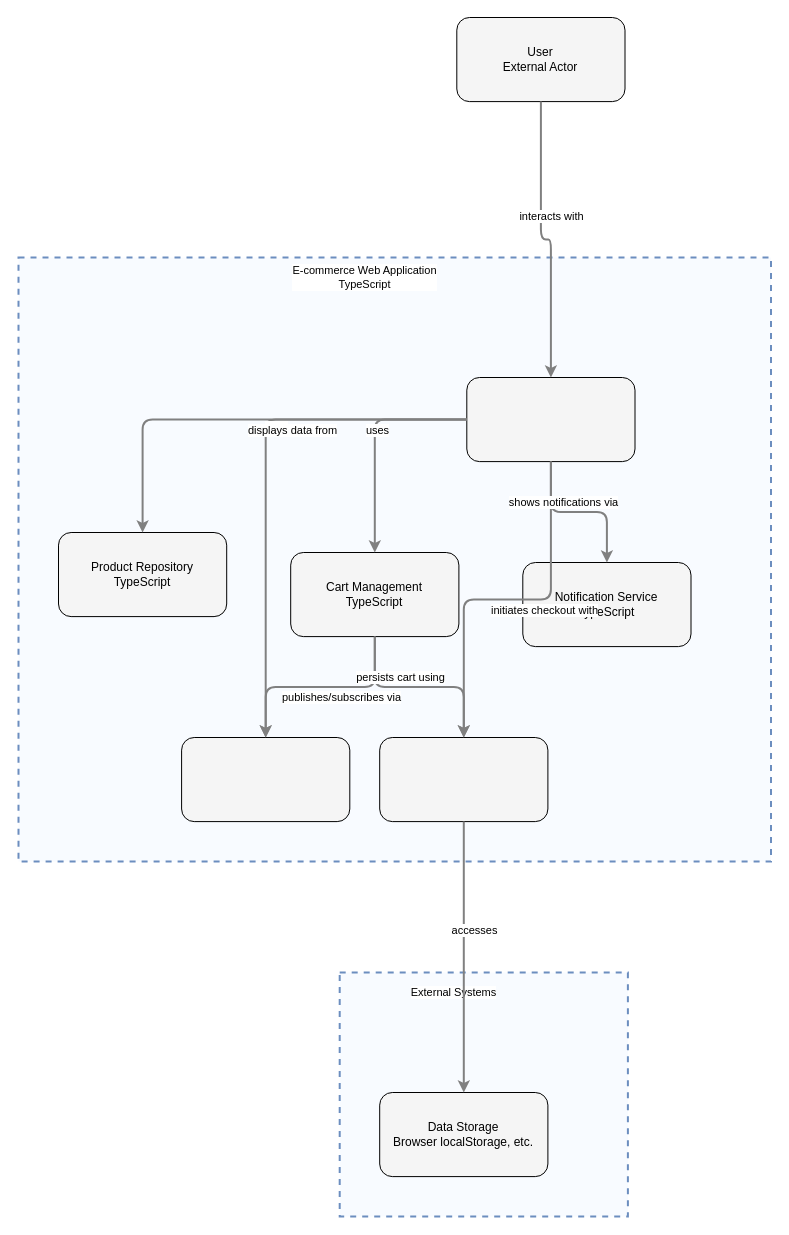
This 789x1235 diagram has some shape labels left out. Here are the shapes that lost their labels. From the top down, the centre of each, then its label:
At (550,419): "UI Components TypeScript".
At (265,779): "Event Management TypeScript".
At (463,779): "Storage Service TypeScript".
